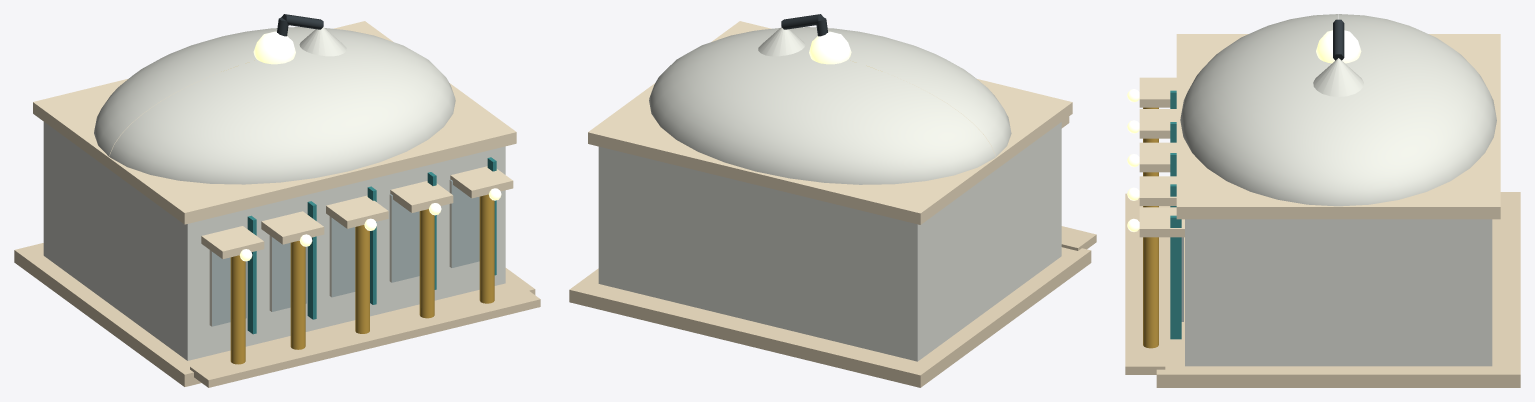
Rendered from pixar.glb.
3 renders of one model, left to right at view 1: azimuth 30°, elevation 25°; view 2: azimuth 150°, elevation 25°; view 3: azimuth 270°, elevation 25°, orthographic. The views are drawn at different scales.
Size of the model in its own units: 3.8 by 2.74 by 3.48.
